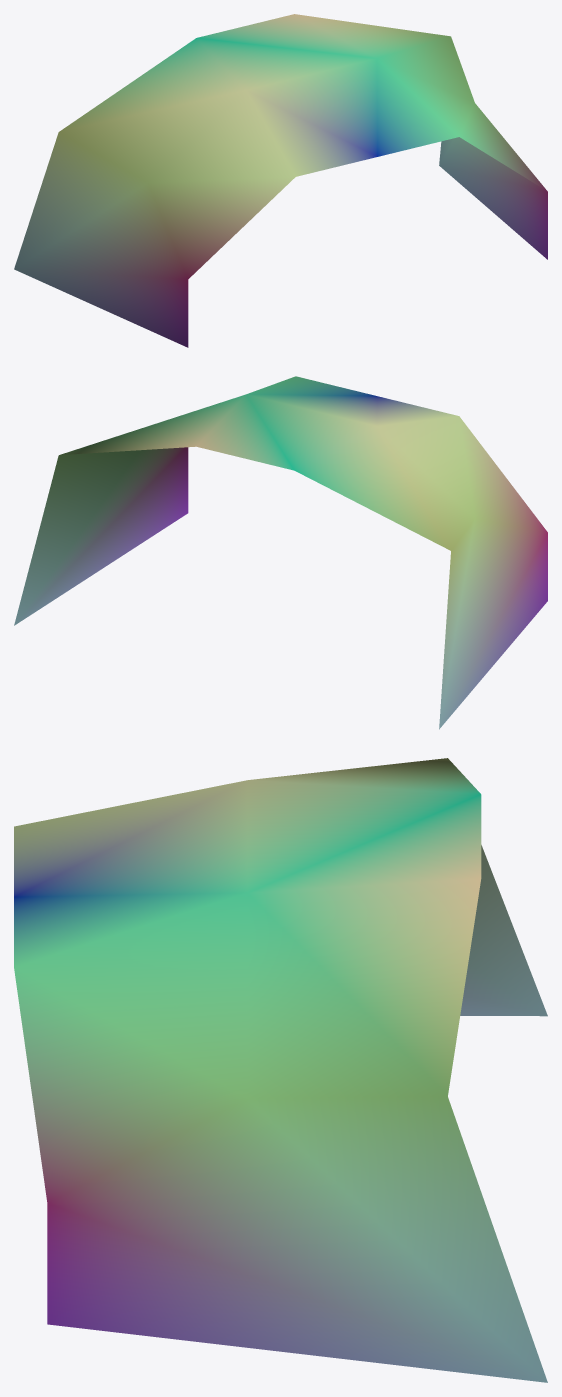
3 views of the same model, one above another, from view 1: azimuth 30°, elevation 25°; view 2: azimuth 150°, elevation 25°; view 3: azimuth 270°, elevation 25° (orthographic). The views are drawn at different scales.
Parts seen in each view (by area): view 1: part; view 2: part; view 3: part.
Boxes of the visible parts, box(x1,y1,x2,y2) form: part: box(14, 14, 547, 347); part: box(14, 376, 547, 729); part: box(14, 758, 547, 1382).
Size of the model in its own units: 26 by 12 by 16.
